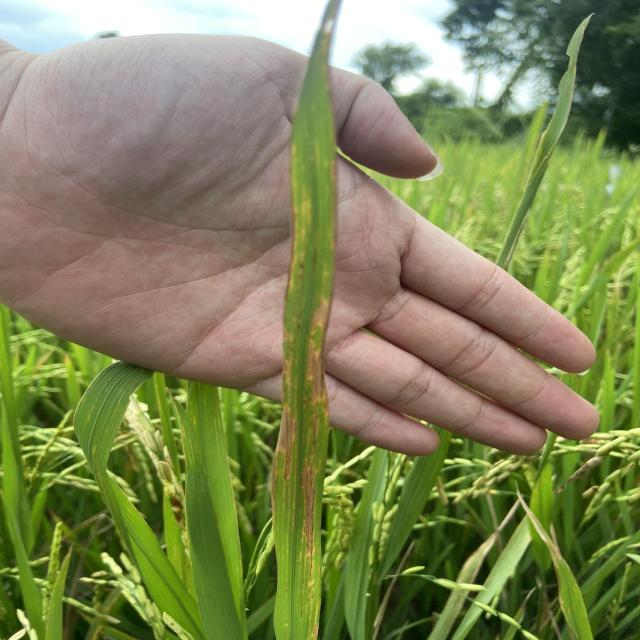Dom soc vi khuan: (299, 411, 319, 618), (311, 604, 319, 638)
